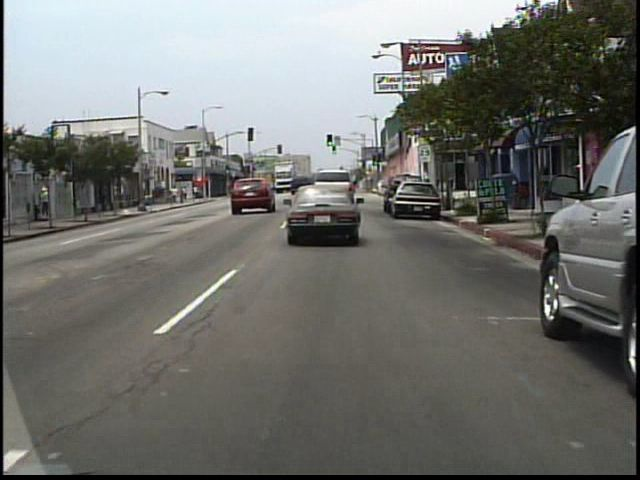person: (42, 183, 53, 220), (172, 185, 179, 204), (180, 185, 186, 203)
